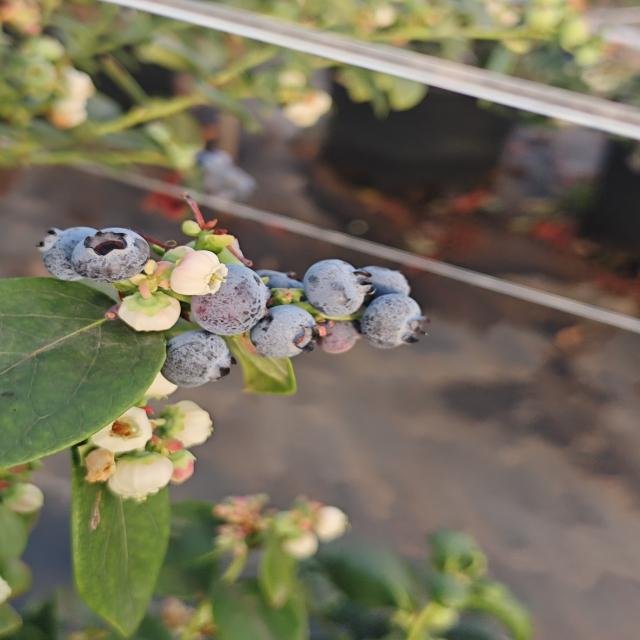ripe: (188, 262, 272, 338), (246, 300, 333, 361), (69, 221, 153, 283), (36, 220, 114, 286), (300, 257, 375, 320), (358, 293, 431, 352), (160, 330, 223, 393), (357, 253, 415, 306), (252, 258, 310, 308)
